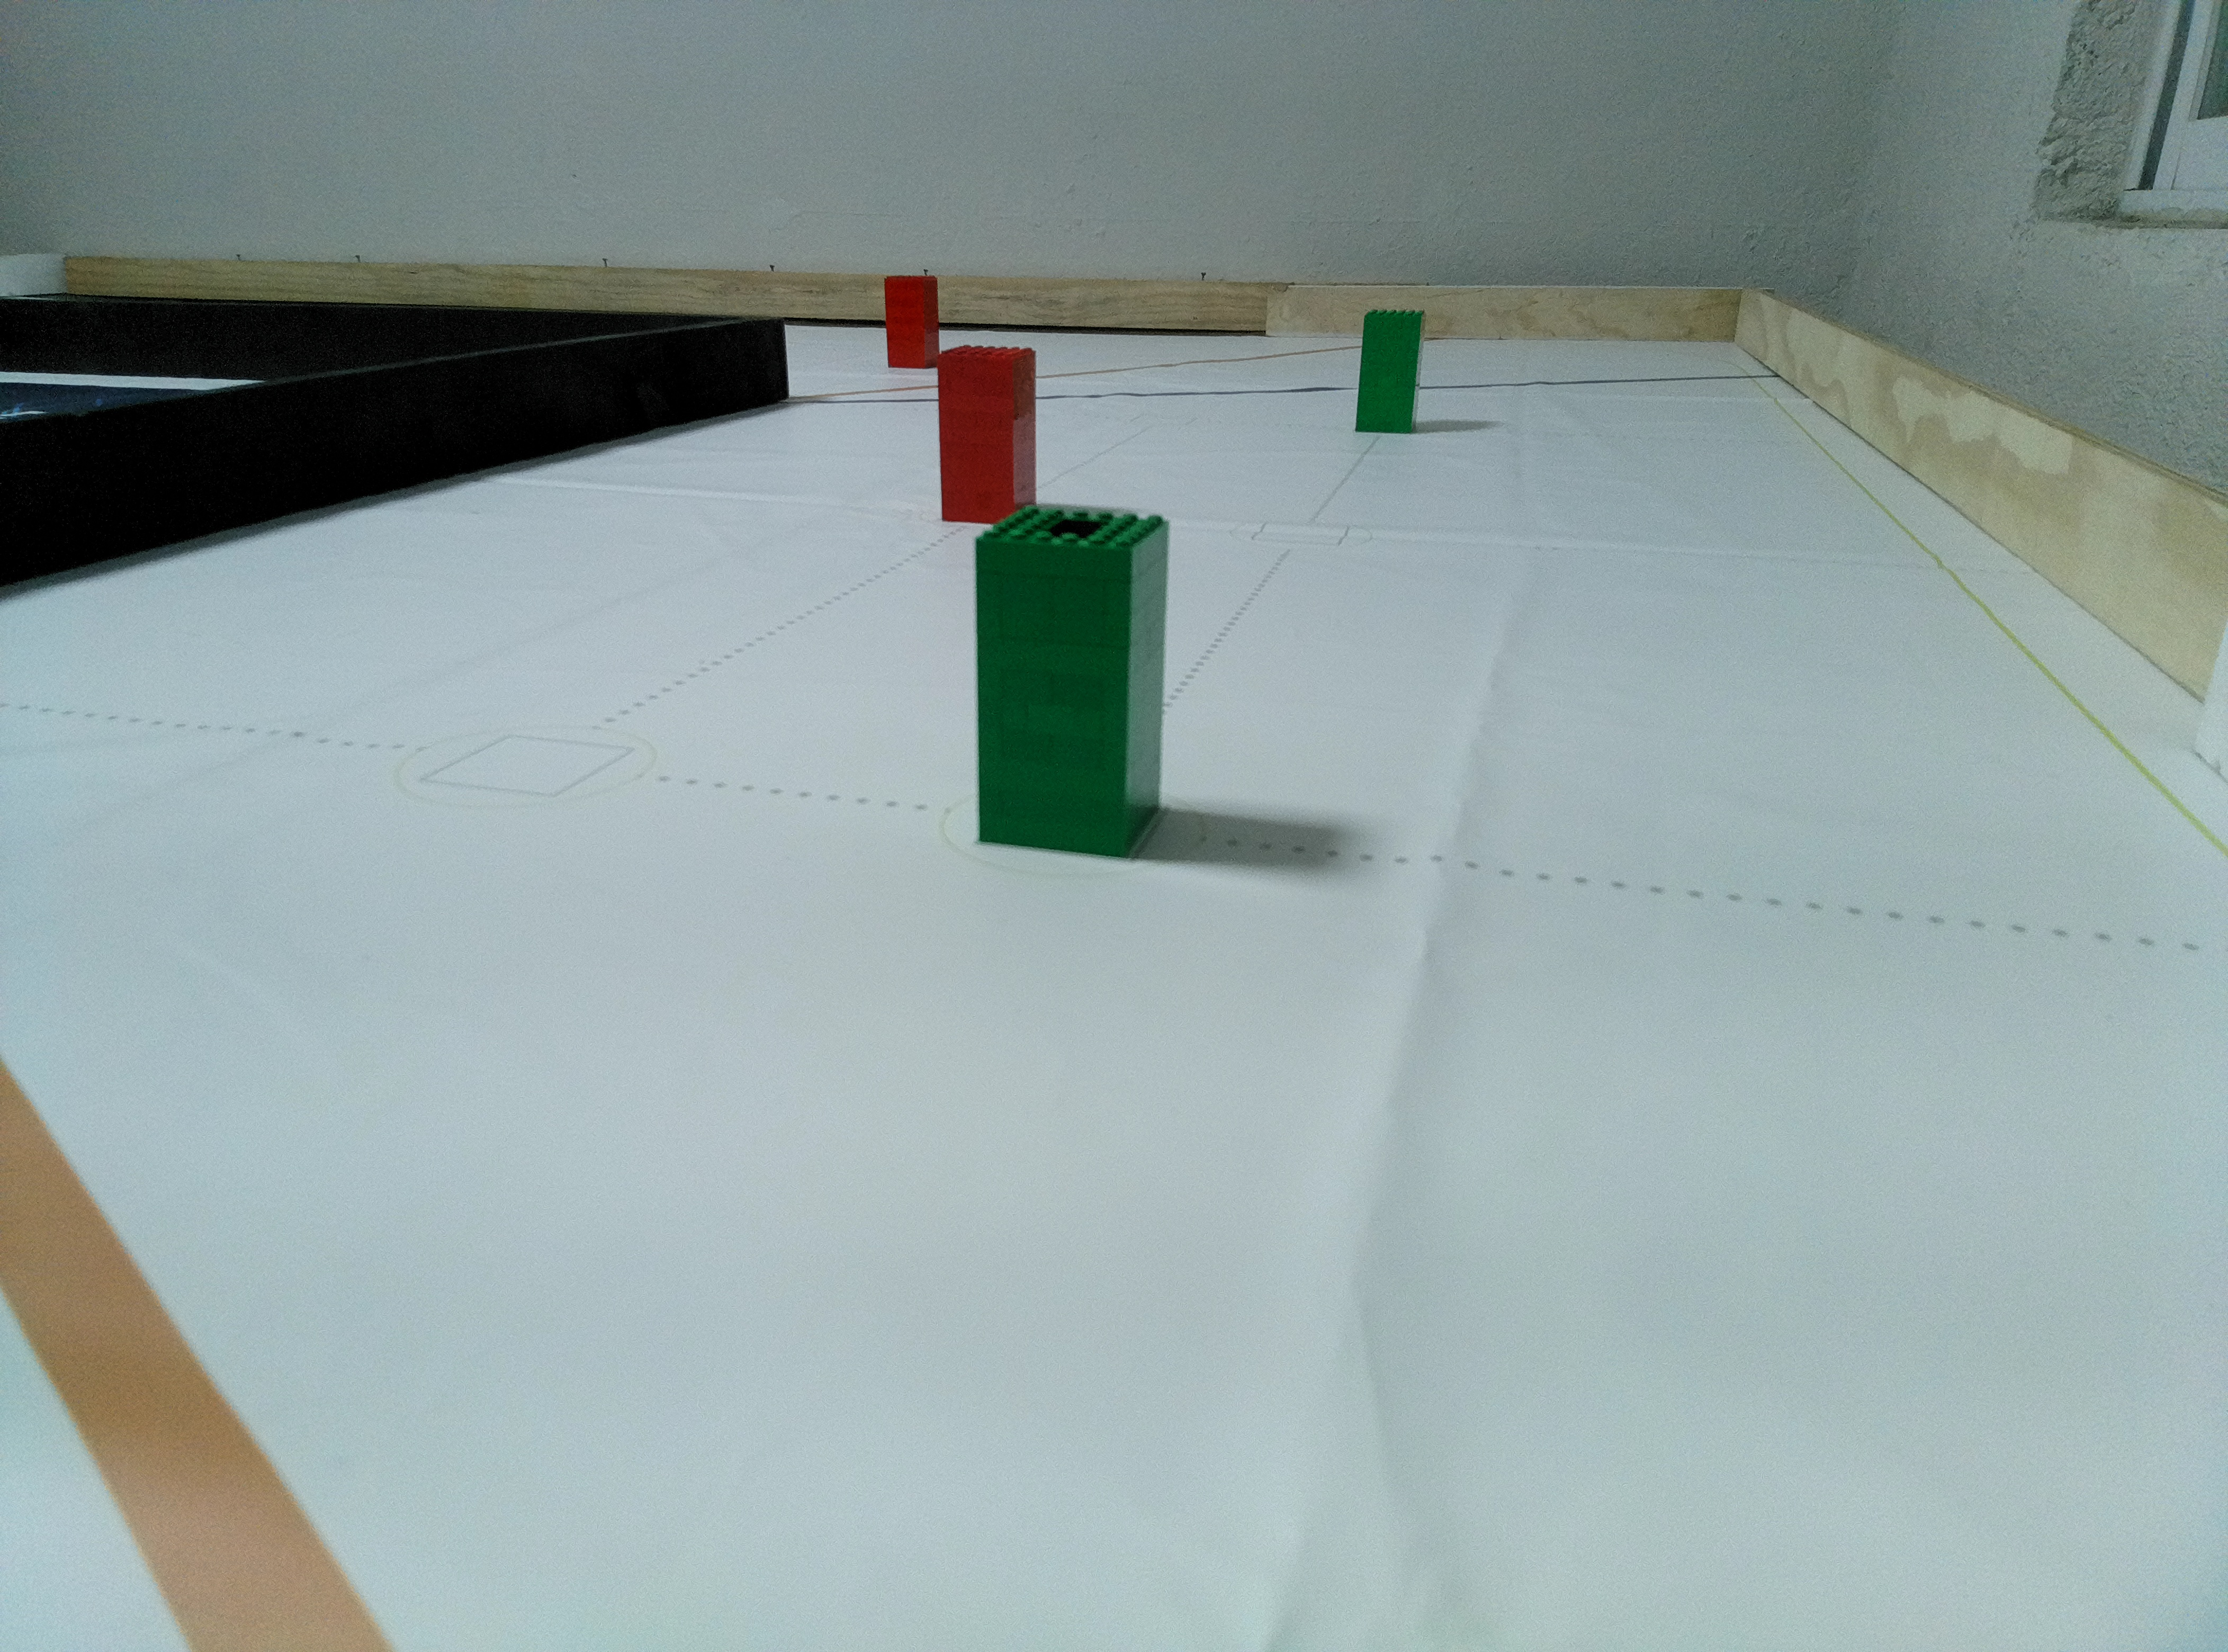greenbox: (972, 503, 1183, 861), (1353, 309, 1428, 436)
redbox: (932, 344, 1039, 526), (883, 274, 940, 370)
